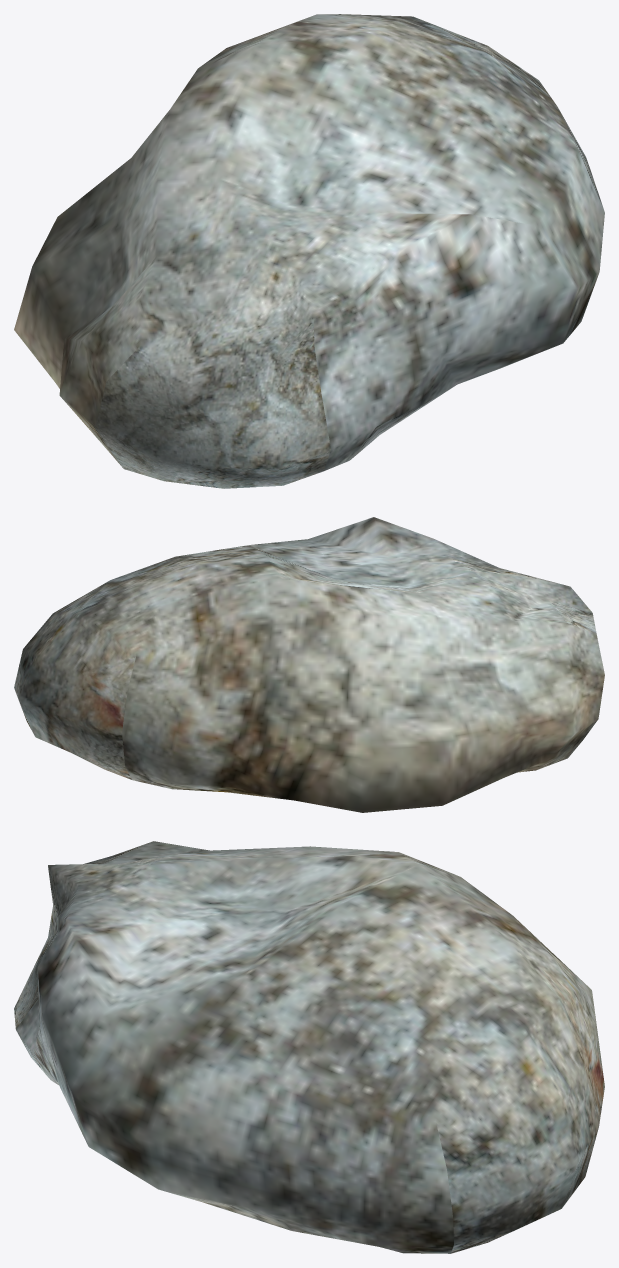
Rendered from rockcluster01.fbx.
3 views of the same model, one above another, from view 1: azimuth 30°, elevation 25°; view 2: azimuth 150°, elevation 25°; view 3: azimuth 270°, elevation 25° (orthographic). The views are drawn at different scales.
Parts seen in each view (by area): view 1: rockcluster01; view 2: rockcluster01; view 3: rockcluster01.
Boxes of the visible parts, bbox=[...] form: rockcluster01: bbox=[14, 14, 604, 488]; rockcluster01: bbox=[14, 517, 604, 812]; rockcluster01: bbox=[14, 841, 604, 1253].
Size of the model in its own units: 0.6105 by 0.2747 by 0.5175.
1 material, 1 textured.
